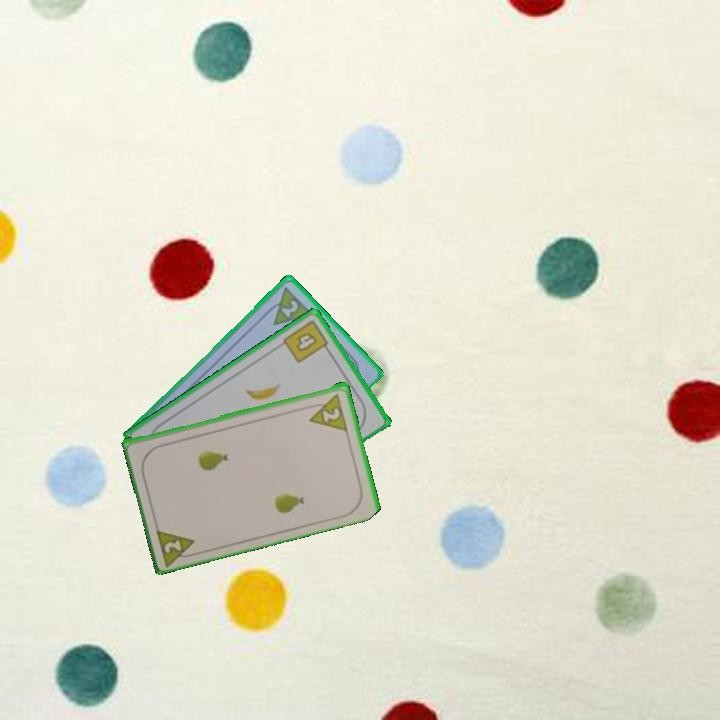2p: (261, 283, 315, 328), (153, 523, 202, 567), (303, 389, 350, 433)
4b: (279, 316, 333, 366)
